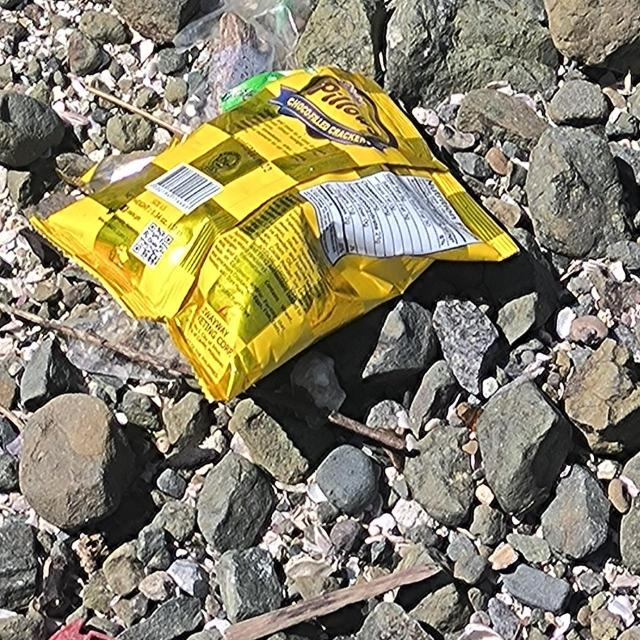plastic_waste: (28, 63, 525, 407)
